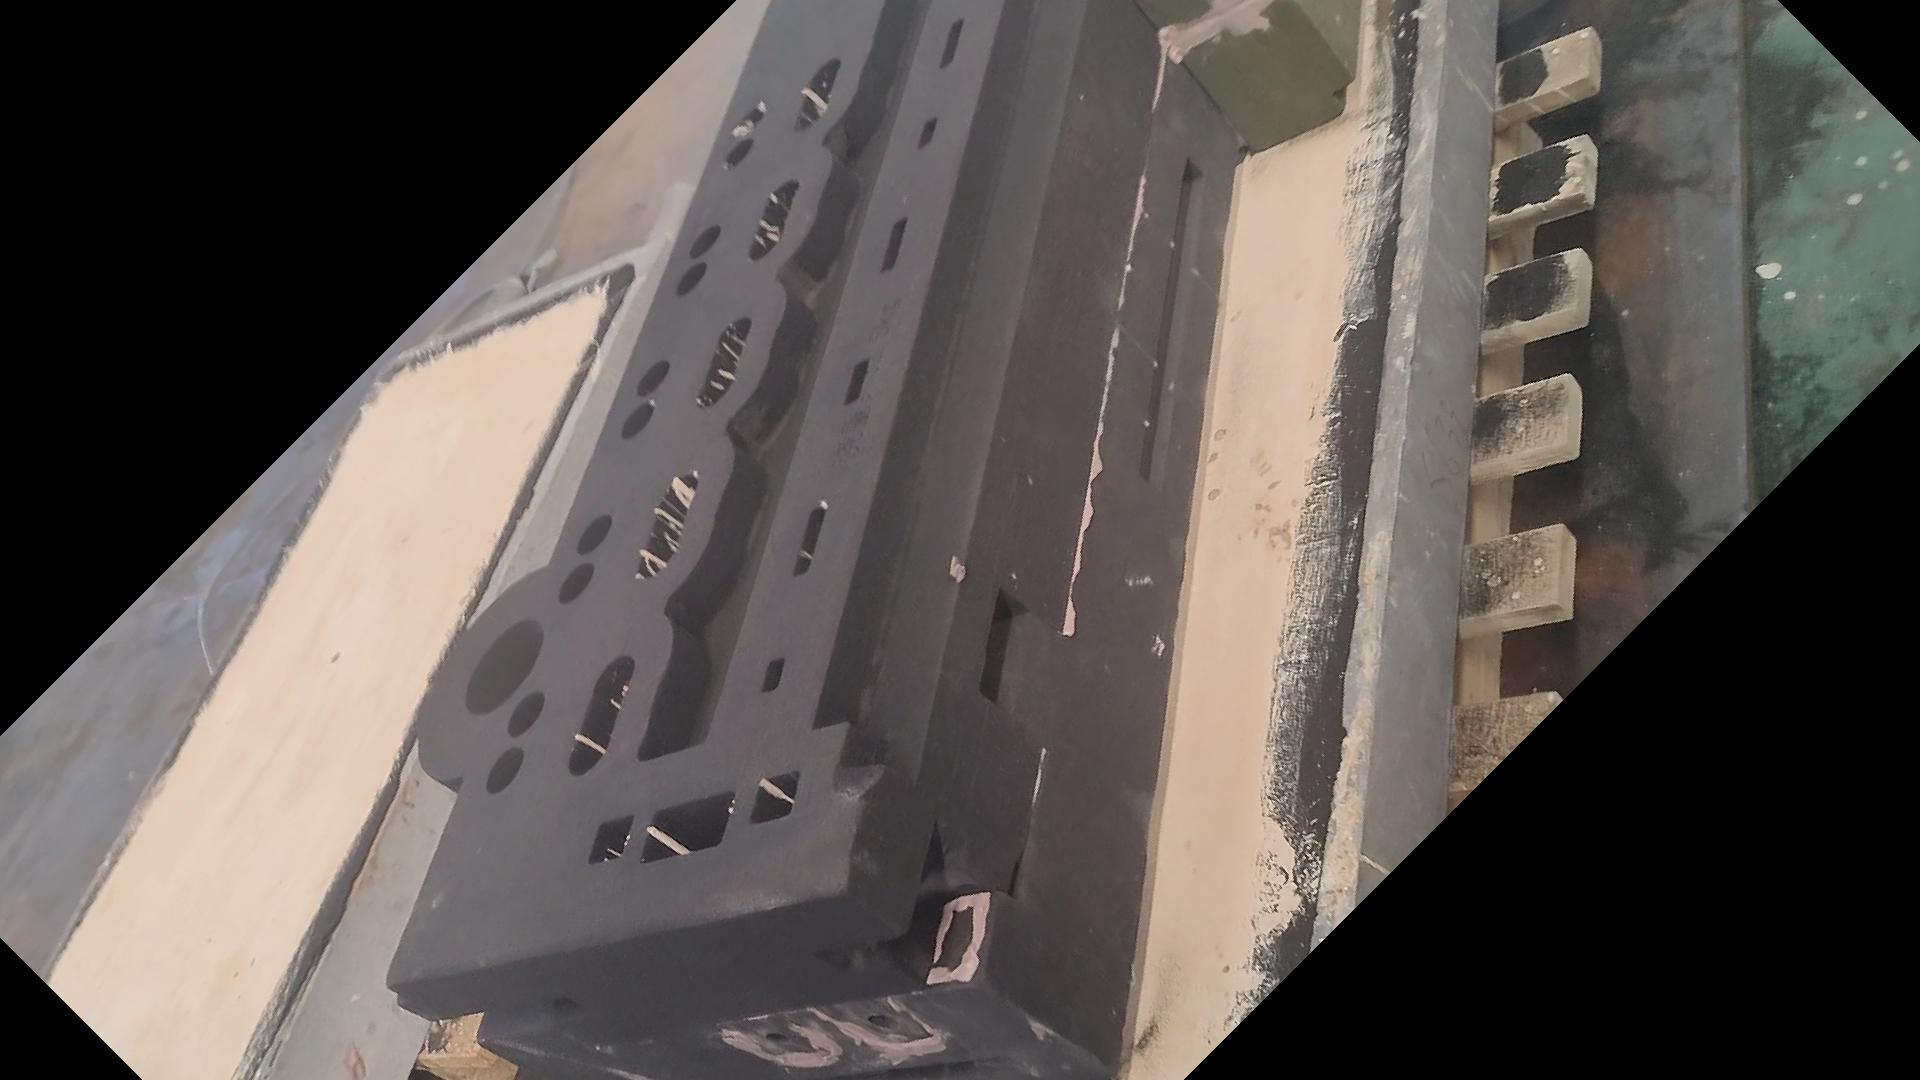pouring hole: (464, 617, 543, 715)
